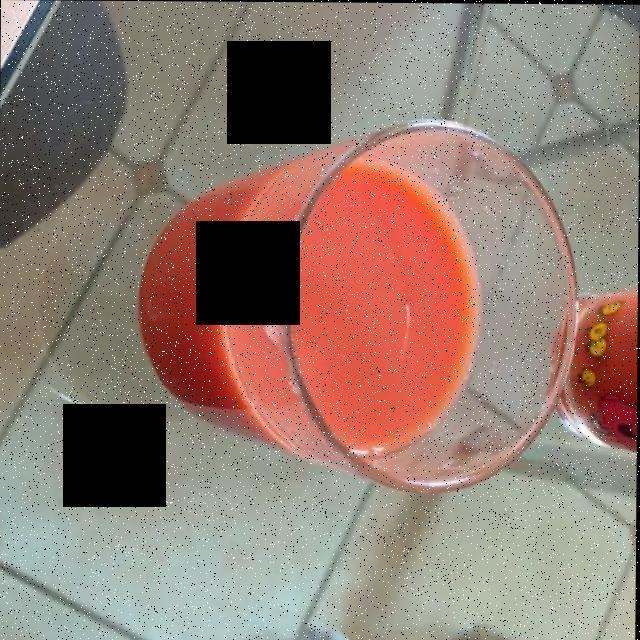juice: (195, 159, 467, 451)
